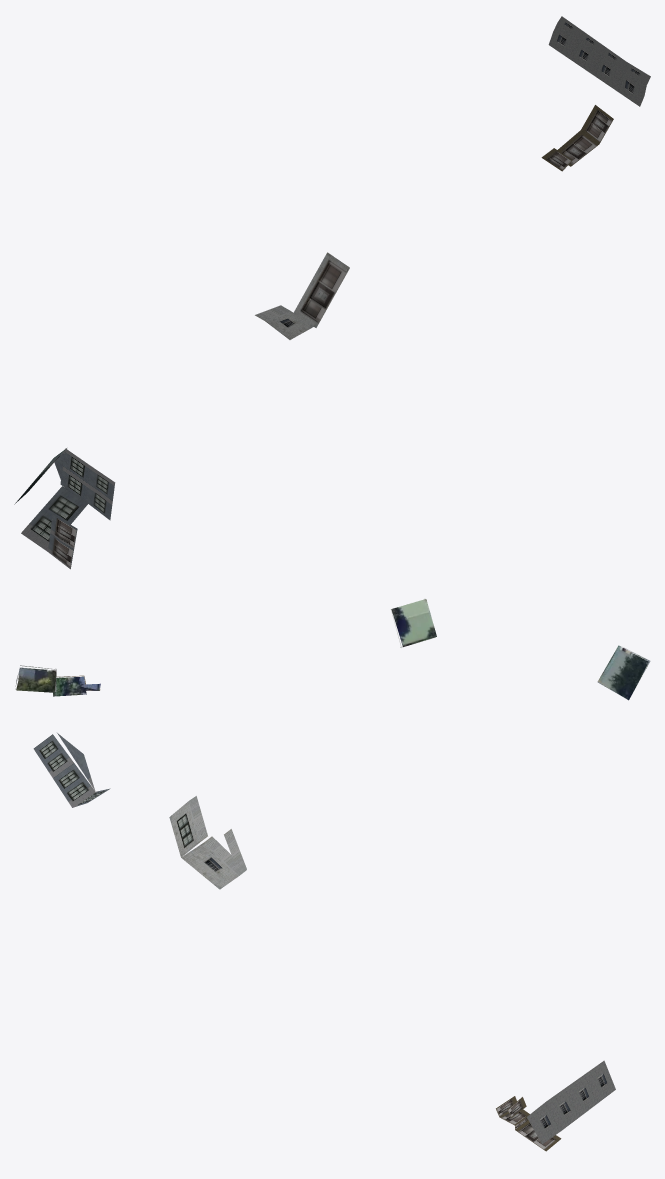
The model's file is tile_LOD4_r10_c11.glb.
The picture shows the model from 3 angles, top to bottom: view 1: azimuth 30°, elevation 25°; view 2: azimuth 150°, elevation 25°; view 3: azimuth 270°, elevation 25°; orthographic projection. The views are drawn at different scales.
Bounding box in the file's own units: 118 × 22.25 × 82.
17 materials, 17 textured.
